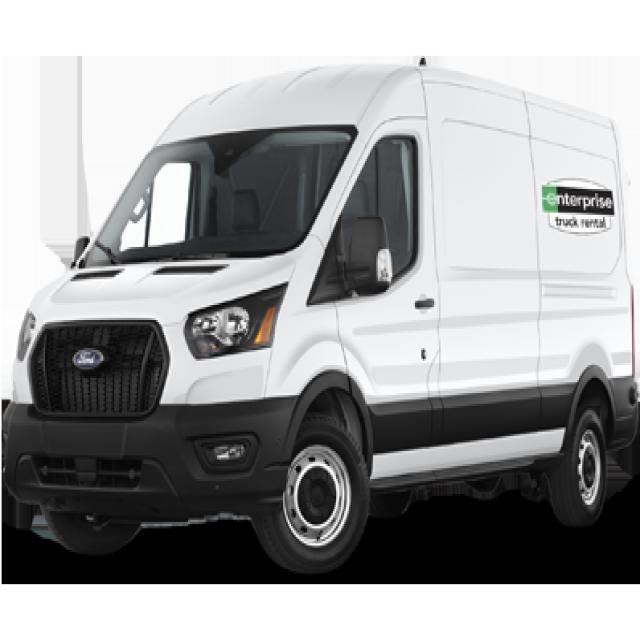truck: (0, 53, 638, 573)
